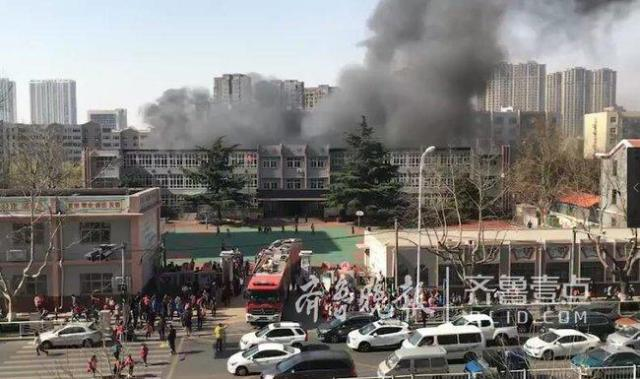smoke: (364, 1, 498, 143), (504, 0, 636, 63), (150, 85, 290, 140), (300, 62, 364, 140)
